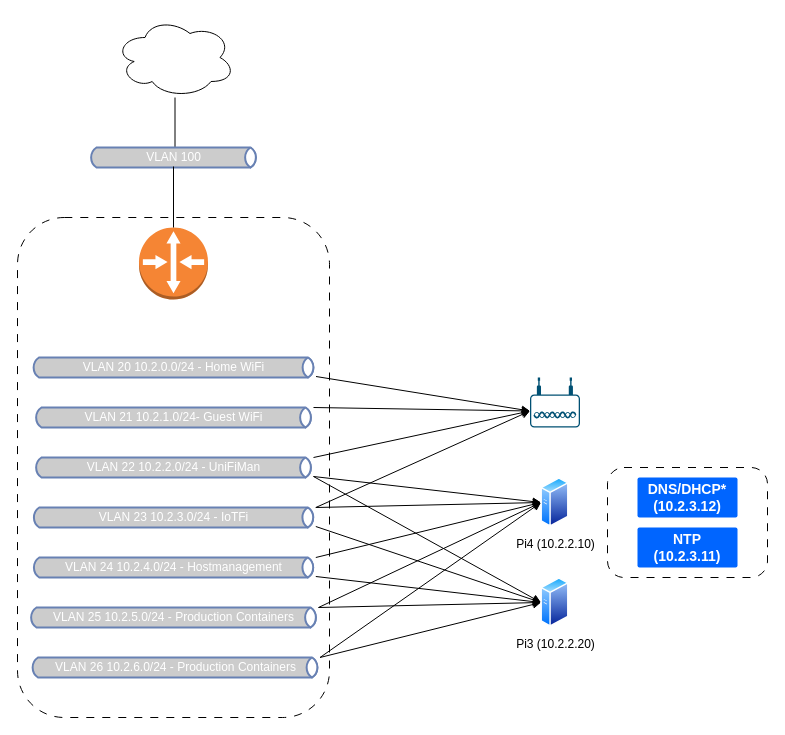
Some shapes in this 785 by 735 pixel diagram are drawn without their labels. Here are the shapes that lost their labels. From the top down, the centre of each, then its label:
(x=174, y=57): Internet
(x=173, y=263): Router (10.2.2.1/)
(x=555, y=402): WAP ( 10.2.2.20)
